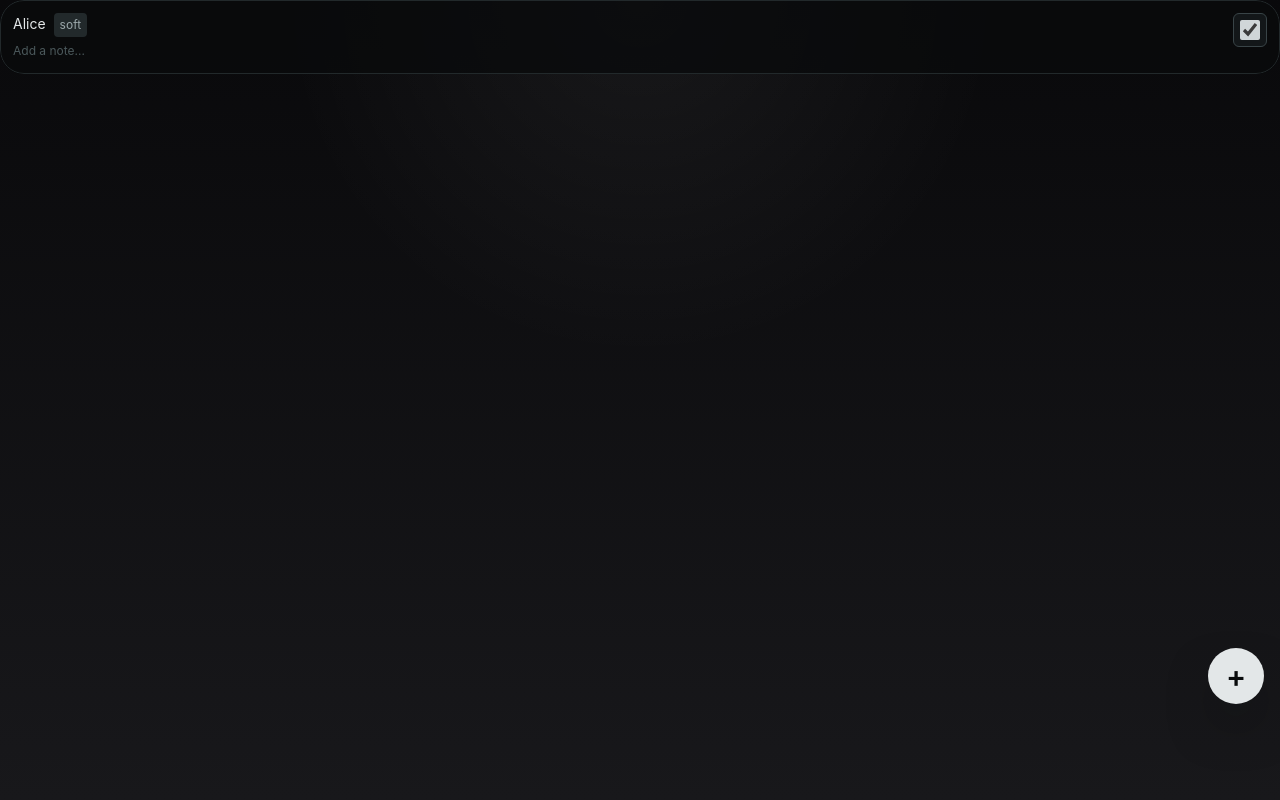
TransactionsTab › allows formula to be edited by clicking
Click the button "Alice" at (29, 24), box [13, 15, 46, 32]
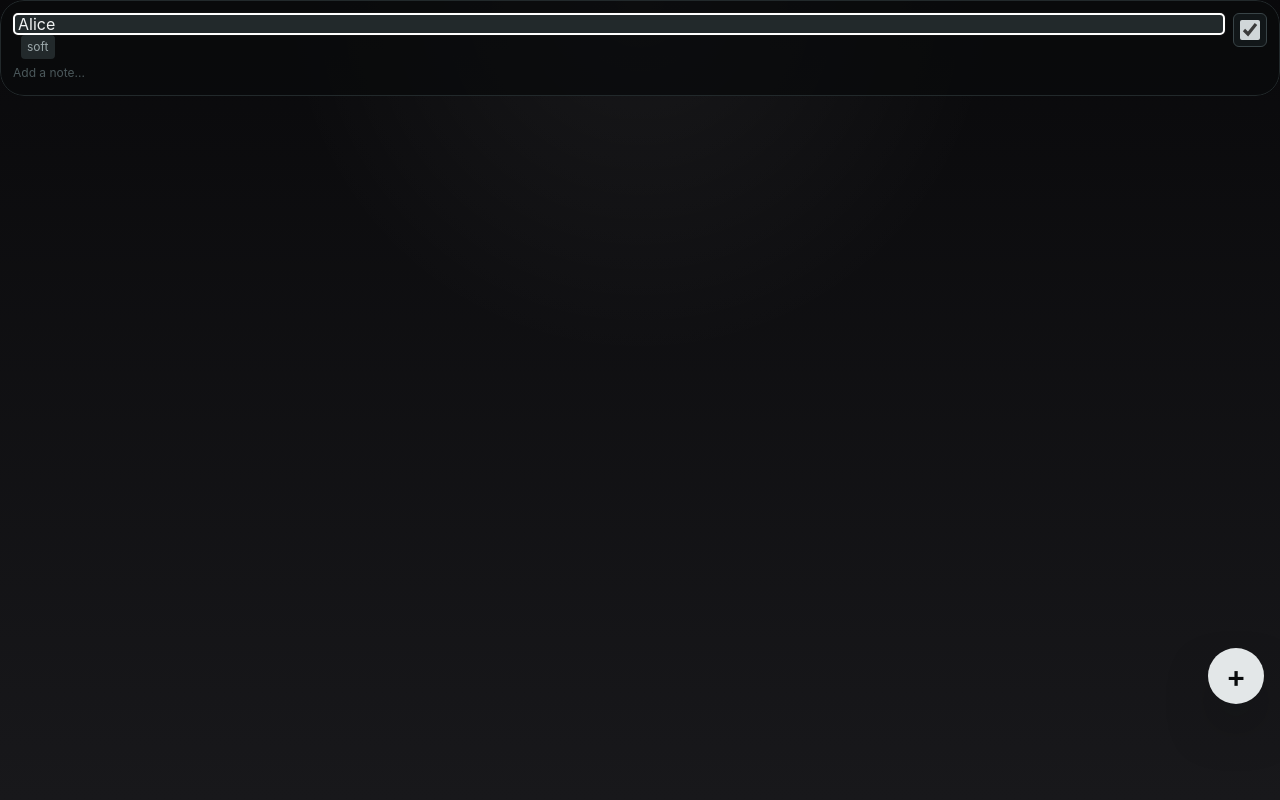
Expected: the field named "Edit formula" holds "Alice", [13, 13, 1225, 35]
